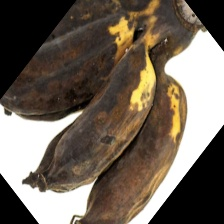banana: (3, 11, 198, 179)
